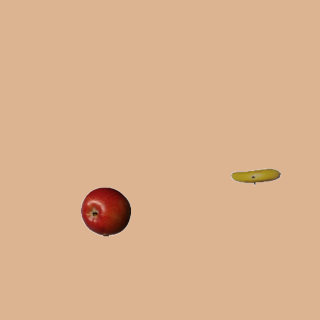Apple Braeburn: (80, 186, 130, 236)
Banana: (230, 151, 280, 201)
